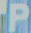Parking: (7, 1, 29, 32)
